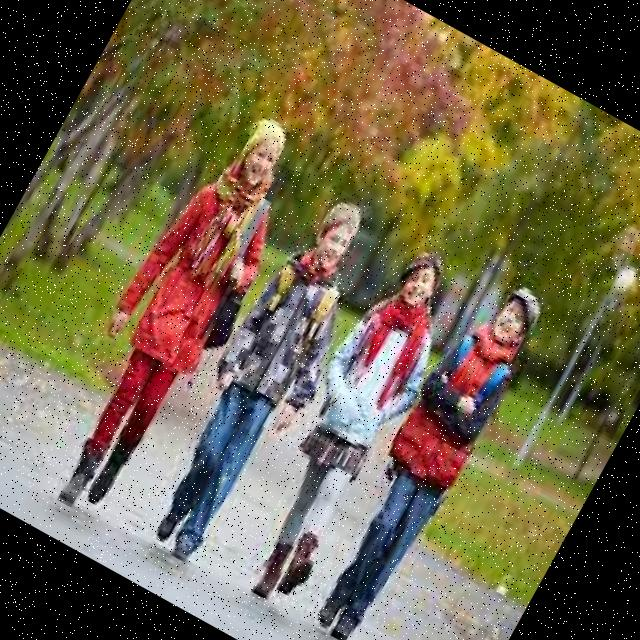Person: (21, 98, 331, 532), (126, 184, 402, 577), (213, 232, 484, 616), (295, 268, 555, 640)
